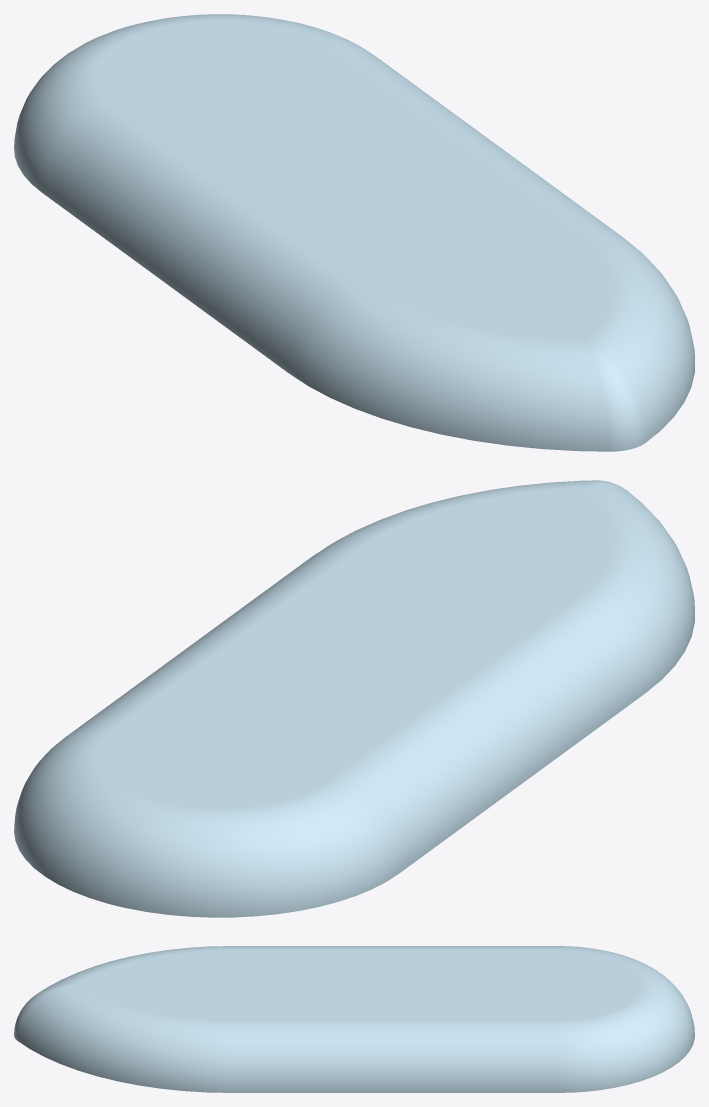
Rendered from sole 1.gltf.
The picture shows the model from 3 angles, top to bottom: view 1: azimuth 30°, elevation 25°; view 2: azimuth 150°, elevation 25°; view 3: azimuth 270°, elevation 25°; orthographic projection. The views are drawn at different scales.
Visible parts, largest first — view 1: Part 1; view 2: Part 1; view 3: Part 1.
Boxes of the visible parts, x1,y1,x2,y2 form: Part 1: (14,14,694,451); Part 1: (14,480,694,917); Part 1: (14,946,694,1092).
Size of the model in its own units: 0.05 by 0.01 by 0.1246.
